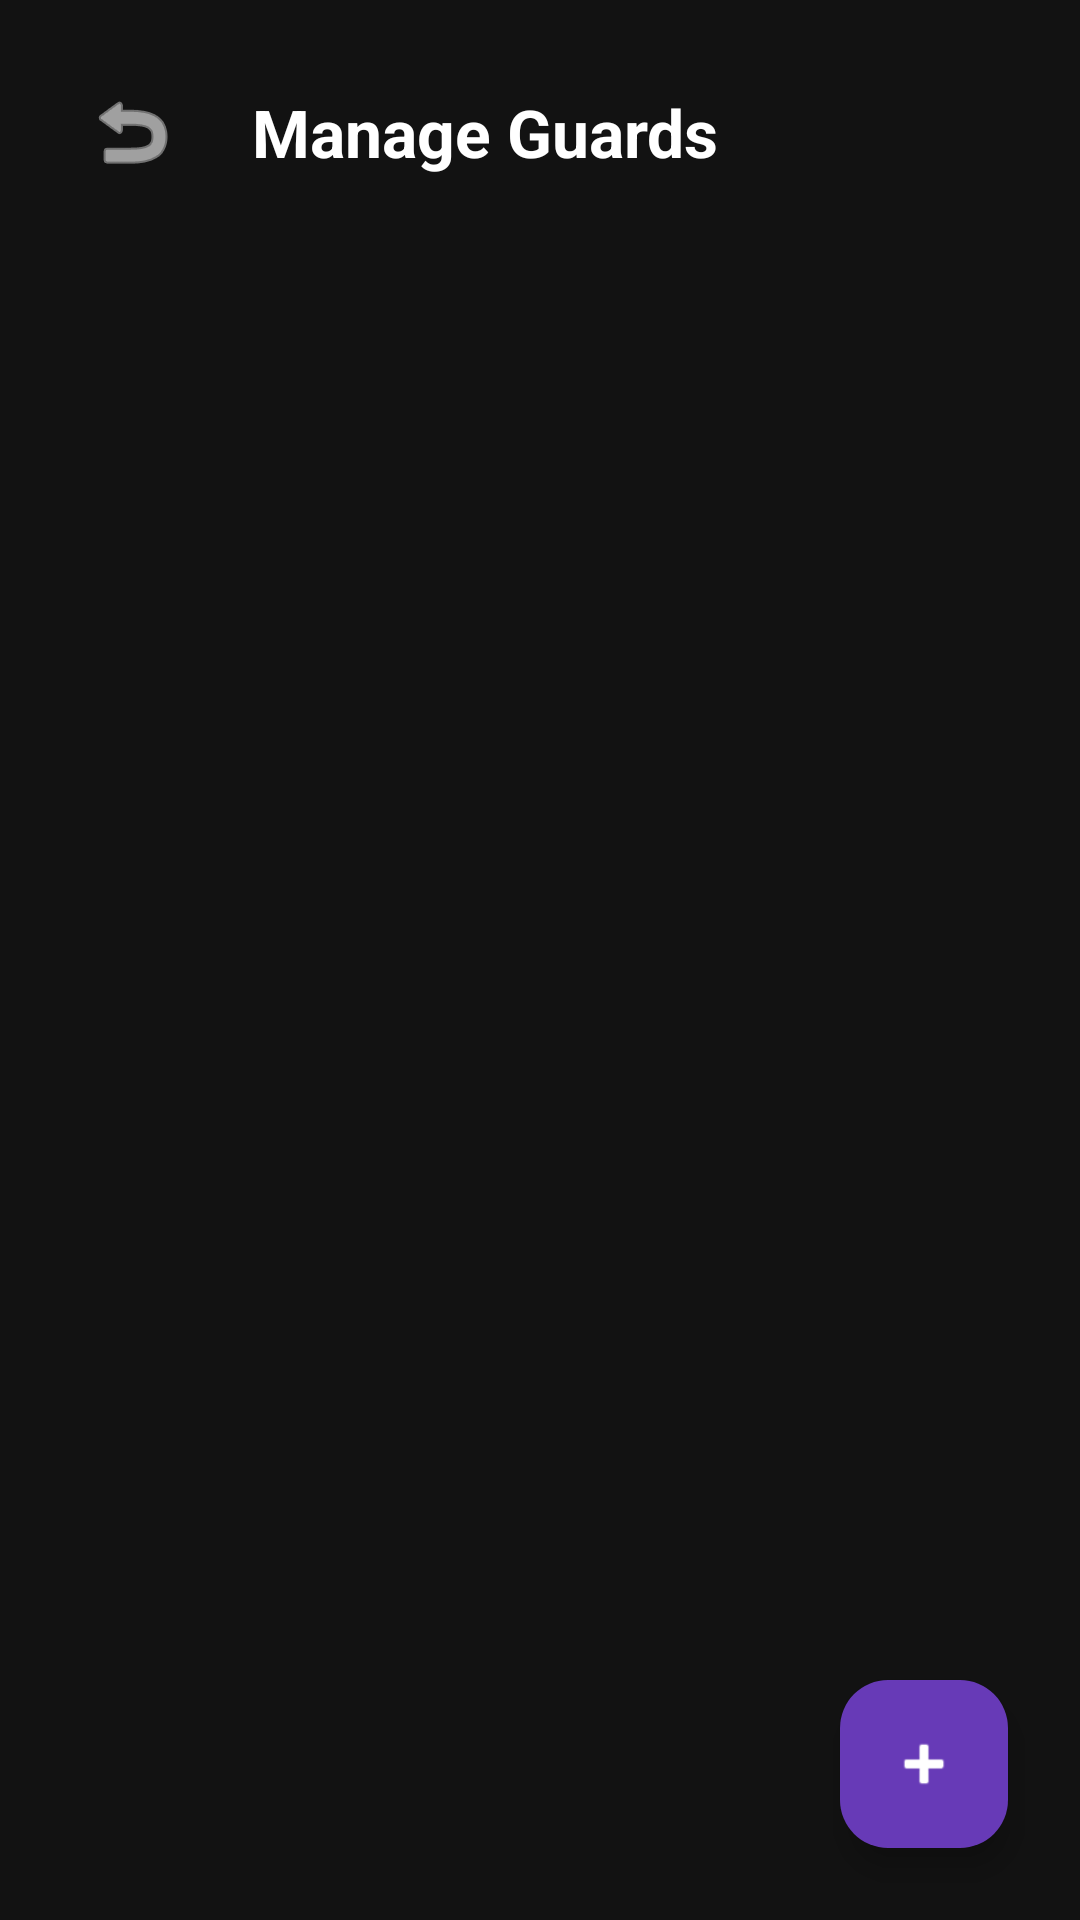

Named icons in this screenshot (1080 x 1920) and their bounding boxes, (x1, y1, x2, y2):
Add Guard: (840, 1680, 1008, 1848)
Back: (99, 101, 168, 164)
